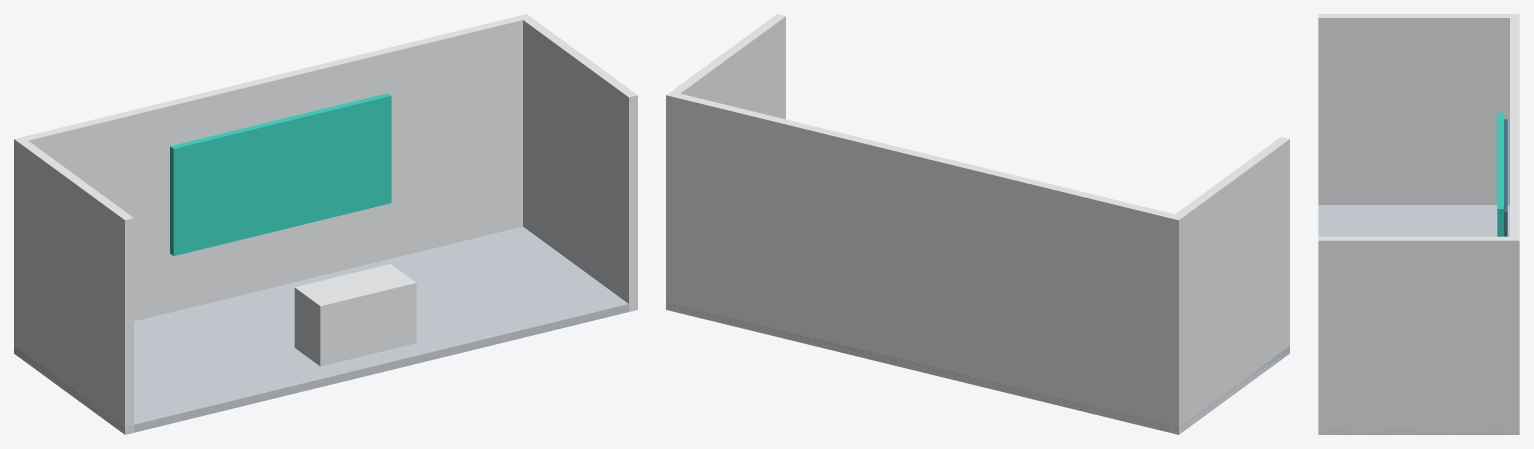
The picture shows the model from 3 angles, left to right: view 1: azimuth 30°, elevation 25°; view 2: azimuth 150°, elevation 25°; view 3: azimuth 270°, elevation 25°; orthographic projection. The views are drawn at different scales.
Parts seen in each view (by area): view 1: Exhibition Booth Concept; view 2: Exhibition Booth Concept; view 3: Exhibition Booth Concept.
Boxes of the visible parts, <box> form: Exhibition Booth Concept: <box>14,14,637,434</box>; Exhibition Booth Concept: <box>666,14,1289,434</box>; Exhibition Booth Concept: <box>1318,14,1519,434</box>.
Size of the model in its own units: 8 by 3.2 by 3.
